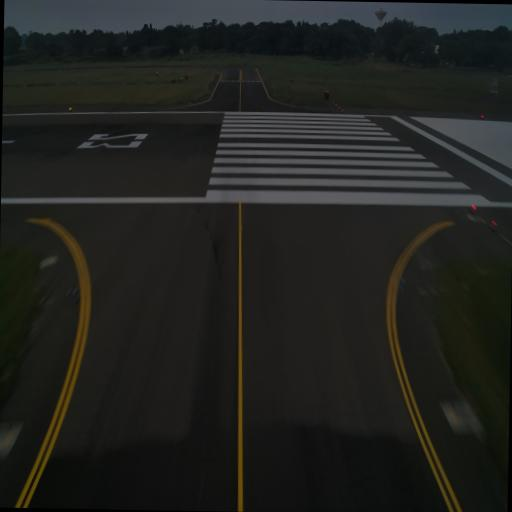on: (468, 200, 478, 218), (490, 216, 498, 229), (480, 110, 486, 120), (68, 104, 72, 114)
